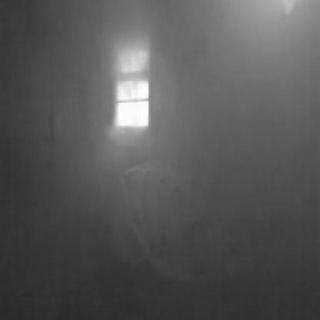other: (111, 52, 151, 128)
